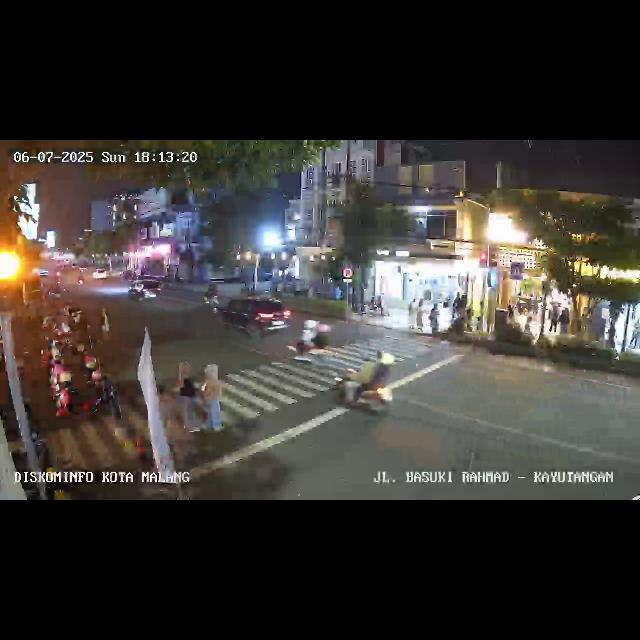car: (214, 295, 292, 337)
motorcycle: (326, 345, 396, 423), (286, 316, 330, 359), (130, 279, 158, 305), (202, 282, 222, 312)
person: (173, 361, 204, 437), (200, 365, 224, 433), (96, 305, 112, 337), (414, 298, 426, 332), (450, 291, 462, 323), (558, 306, 570, 336), (429, 302, 439, 336), (606, 321, 616, 354), (548, 303, 558, 335), (524, 307, 534, 339), (407, 296, 415, 332), (632, 326, 640, 350)
